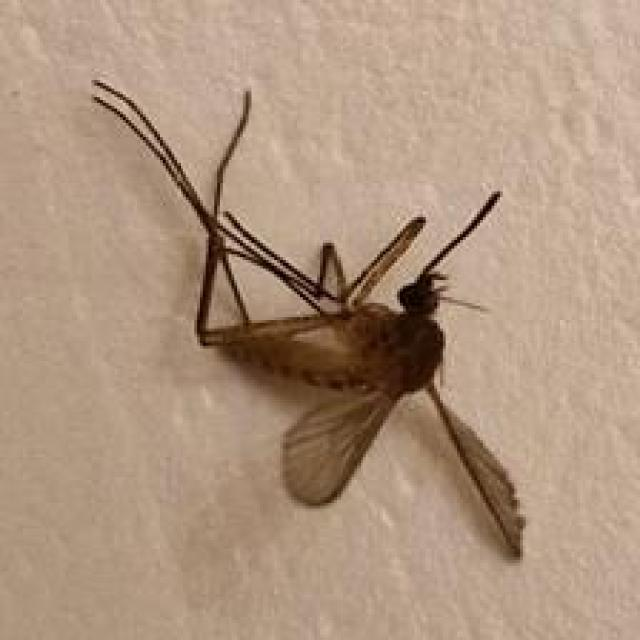Culex: (89, 76, 528, 558)
